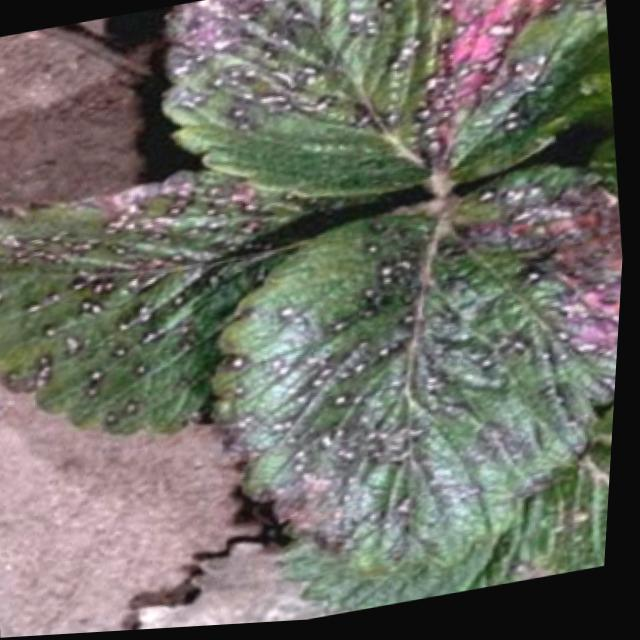Leaf Spot: (214, 169, 626, 588), (163, 0, 613, 215), (0, 172, 324, 439)
